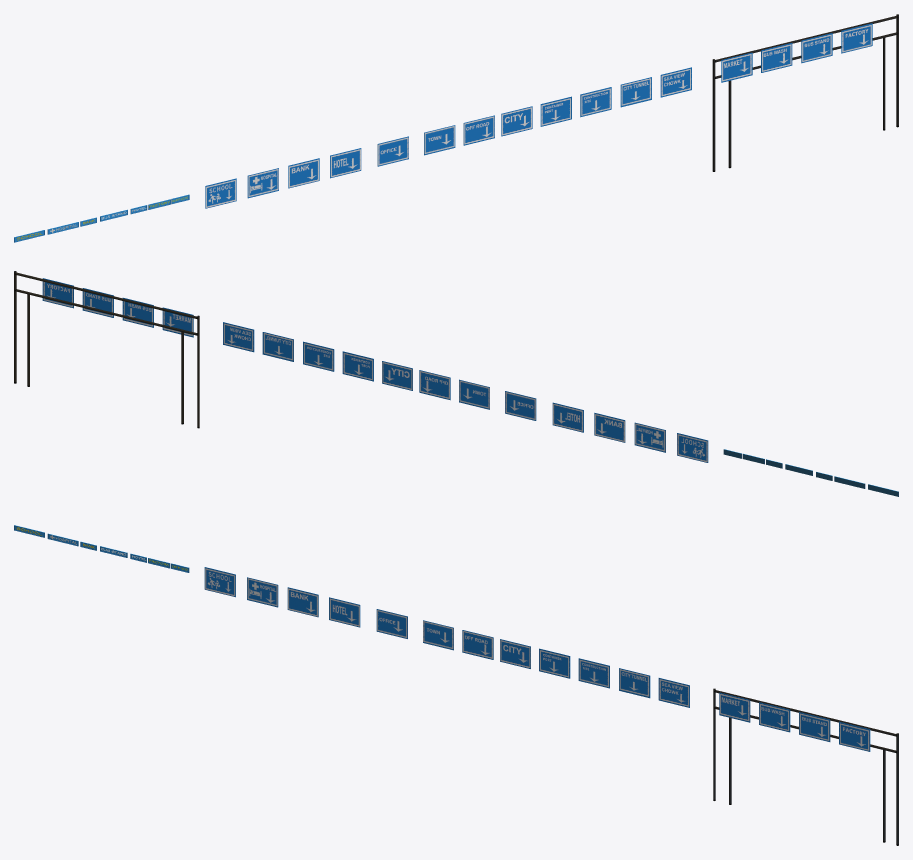
File: SIGN BOARD.fbx
The picture shows the model from 3 angles, top to bottom: view 1: azimuth 30°, elevation 25°; view 2: azimuth 150°, elevation 25°; view 3: azimuth 330°, elevation 25°; orthographic projection.
Parts seen in each view (by area): view 1: Cylinder003, 1, 3, 5, 7, 8, 13, 16, 4, 9, 10, 12 (+5 smaller); view 2: Cylinder003, 9, 3, 7, 10, 1, 2, 4, 5, 11, 12, 6 (+5 smaller); view 3: Cylinder003, 3, 9, 1, 2, 4, 5, 10, 16, 7, 13, 11 (+5 smaller).
Part boxes in pixels (box(x1,y1,x2,y2)): Cylinder003: box(712, 14, 898, 171); 1: box(205, 178, 236, 208); 3: box(288, 158, 319, 188); 5: box(377, 136, 408, 166); 7: box(463, 115, 494, 145); 8: box(501, 106, 532, 136); 13: box(721, 52, 752, 82); 16: box(841, 23, 872, 53); 4: box(330, 148, 361, 178); 9: box(540, 96, 571, 126); 10: box(580, 87, 611, 117); 12: box(660, 67, 691, 97); Cylinder003: box(14, 271, 199, 428); 9: box(342, 351, 373, 381); 3: box(594, 412, 625, 442); 7: box(419, 370, 450, 400); 10: box(303, 341, 334, 371); 1: box(677, 433, 708, 462); 2: box(634, 422, 665, 452); 4: box(552, 402, 583, 432); 5: box(505, 391, 536, 420); 11: box(262, 332, 293, 361); 12: box(223, 322, 254, 352); 6: box(459, 379, 489, 409); Cylinder003: box(713, 688, 898, 845); 3: box(287, 587, 318, 617); 9: box(539, 648, 570, 678); 1: box(204, 567, 235, 597); 2: box(247, 577, 278, 607); 4: box(329, 597, 360, 627); 5: box(376, 609, 407, 638); 10: box(578, 658, 609, 688); 16: box(839, 721, 870, 751); 7: box(462, 630, 493, 659); 13: box(719, 692, 750, 722); 11: box(619, 668, 650, 698).
Bounding box in the file's own units: 7110 × 858 × 28.31.
